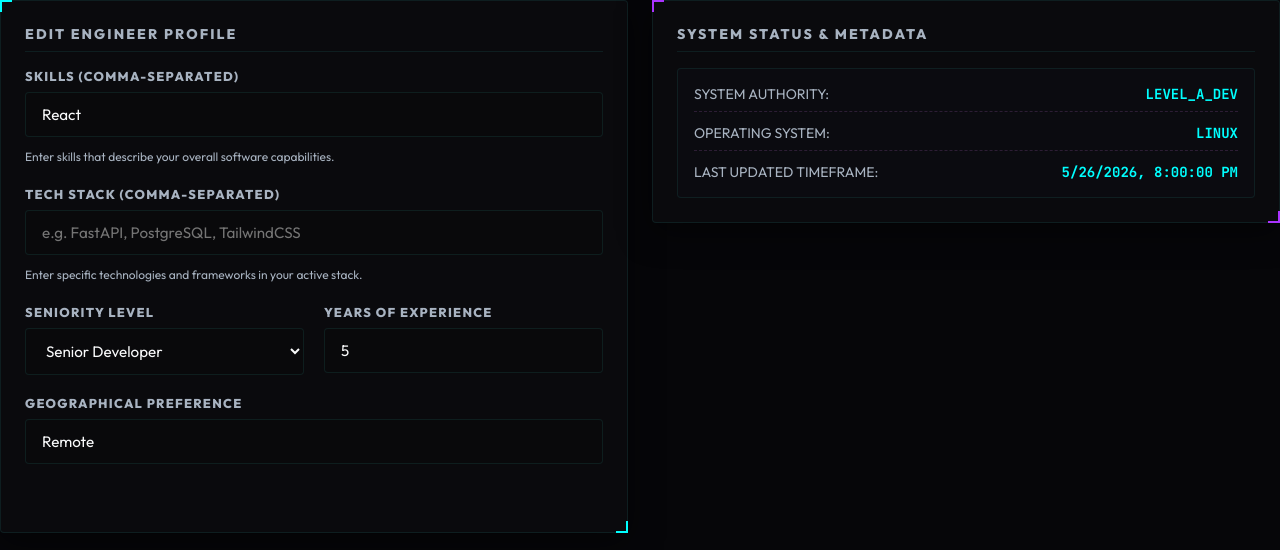
Test: Profile Management & Freshness Monitor › applies error indicators and magenta borders on save failure
Note: Trigger typing update
Replace the text in the field labelled "Skills (Comma-separated)" with "React, @@@". click: (314, 114)
box: [25,92,603,137]
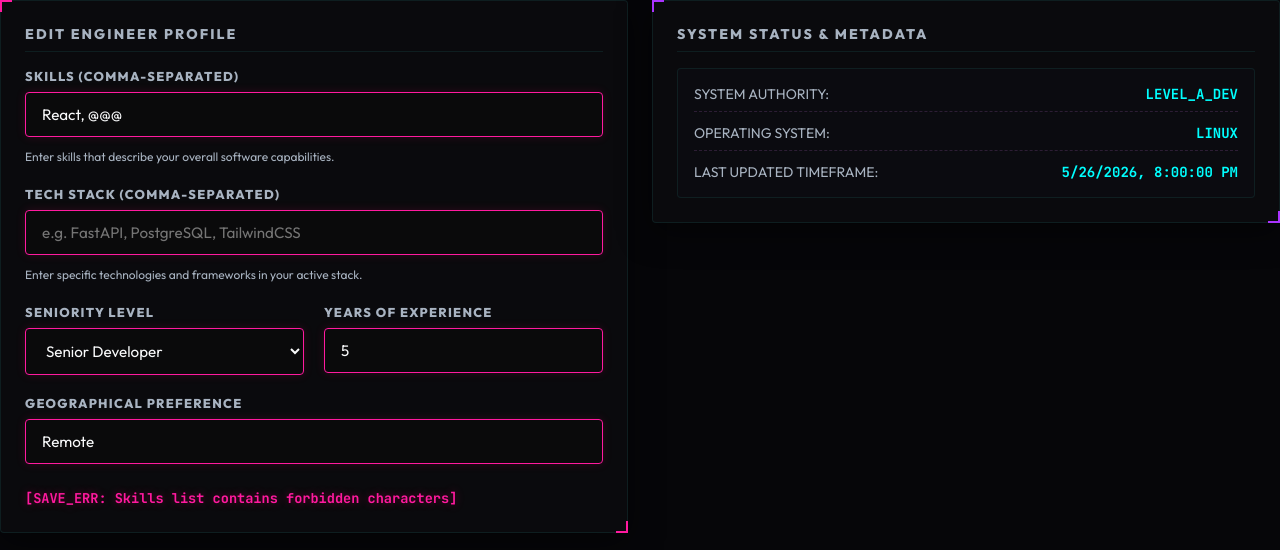
Now the text "[SAVE_ERR: Skills list contains forbidden characters]" is shown, box [25,489,457,507]
